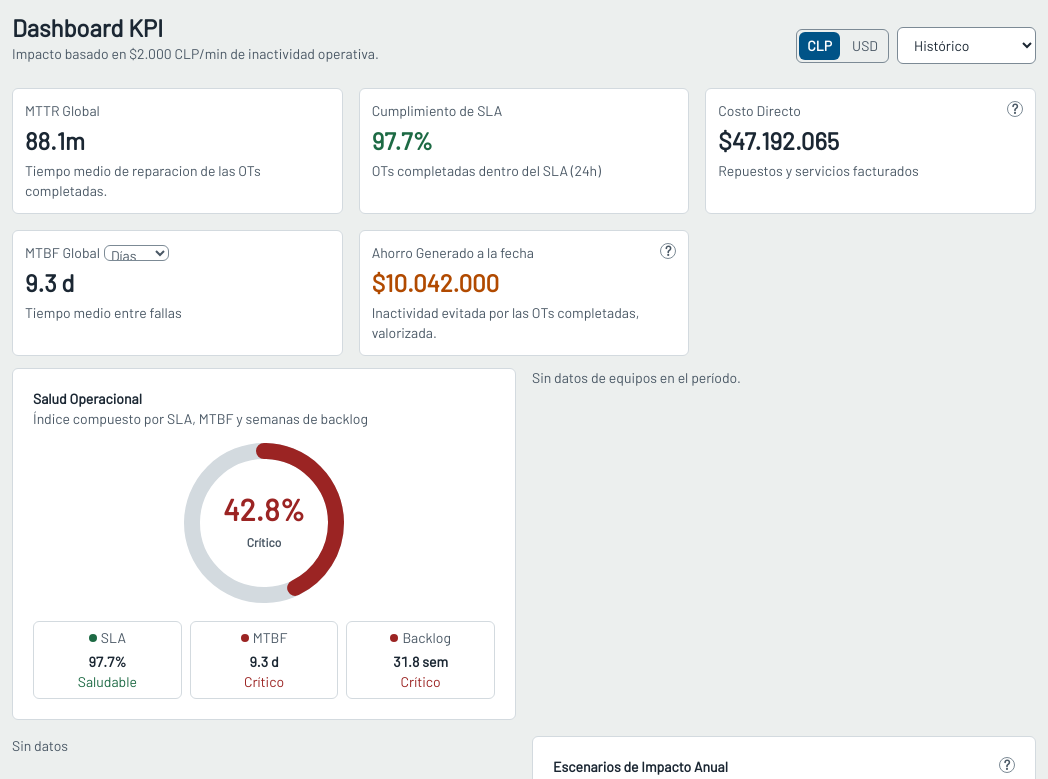
DashboardComponent — feedback de Samuel › MTBF y su unidad (CGBIDA-434 y 435) › el semáforo refleja la misma unidad que la tarjeta
The image size is (1048, 779).
expect the list item with test id "componente-mtbf" shows "9.3 d": met, box [249,653,278,670]
Select "Horas" in the dropdown with test id "selector-unidad-mtbf": (136, 253) [104,245,169,261]
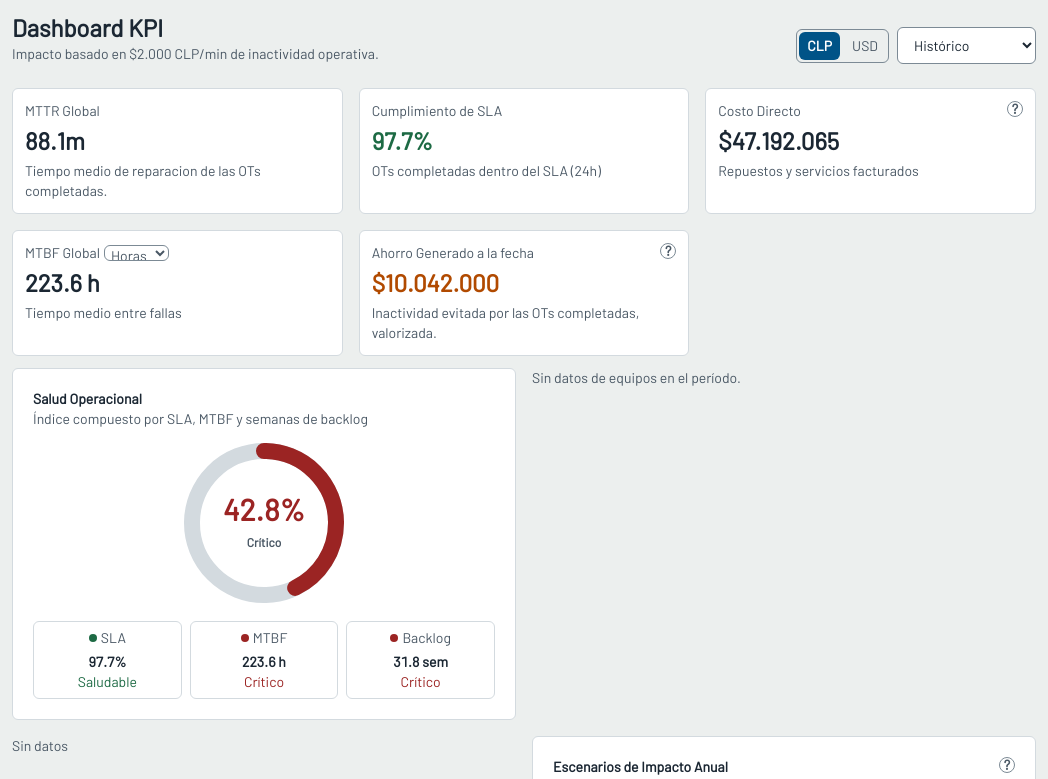
expect the list item with test id "componente-mtbf" shows "223.6 h": met, box [242,653,286,670]
